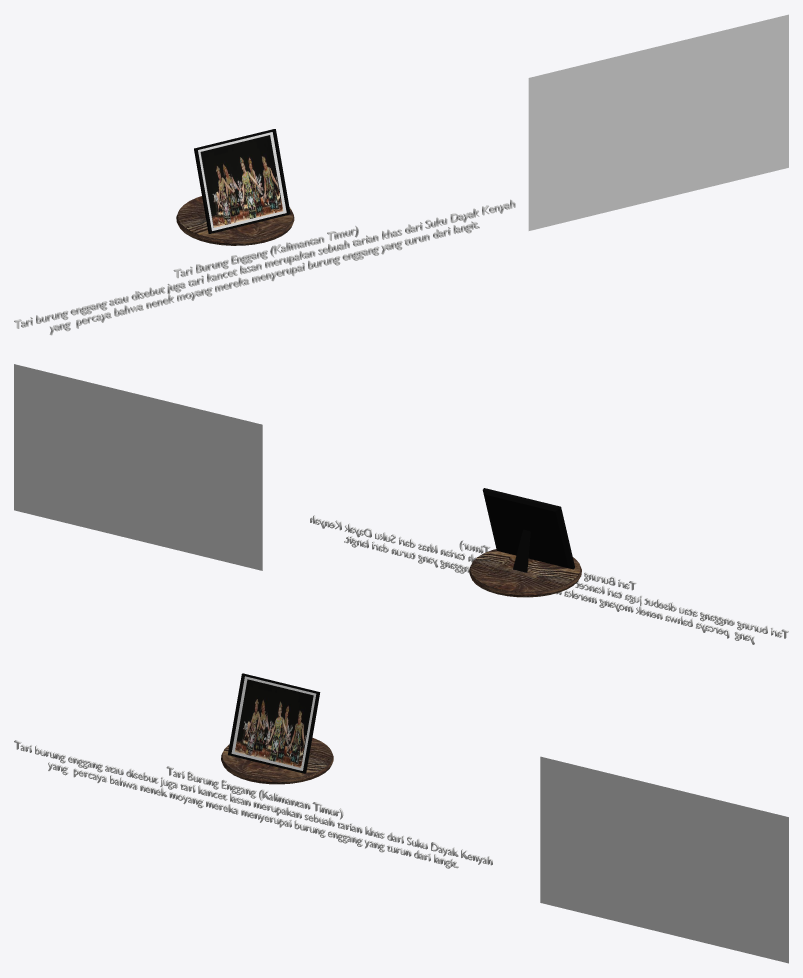
Rendered from 22. Tari Burung Enggang (Kalimantan Tengah).fbx.
3 renders of one model, top to bottom at view 1: azimuth 30°, elevation 25°; view 2: azimuth 150°, elevation 25°; view 3: azimuth 330°, elevation 25°, orthographic. The views are drawn at different scales.
Visible parts, largest first — view 1: Plane, Cube.008, Text; view 2: Plane, Cube.008, Text; view 3: Plane, Cube.008, Text.
Boxes of the visible parts, x1=… form: Plane: x1=528, y1=14, x2=788, y2=230; Cube.008: x1=176, y1=129, x2=294, y2=245; Text: x1=14, y1=199, x2=515, y2=335; Plane: x1=14, y1=364, x2=262, y2=570; Cube.008: x1=469, y1=488, x2=581, y2=597; Text: x1=310, y1=515, x2=788, y2=644; Plane: x1=540, y1=756, x2=788, y2=963; Cube.008: x1=221, y1=673, x2=333, y2=784; Text: x1=14, y1=740, x2=492, y2=868.
Size of the model in its own units: 9742 by 1806 by 1260.
Materials: 6 (3 with a texture image).
